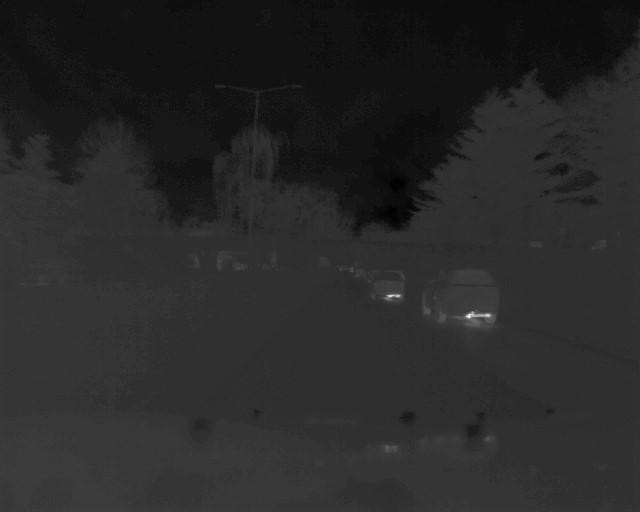car: (420, 268, 501, 327), (366, 269, 408, 304)
